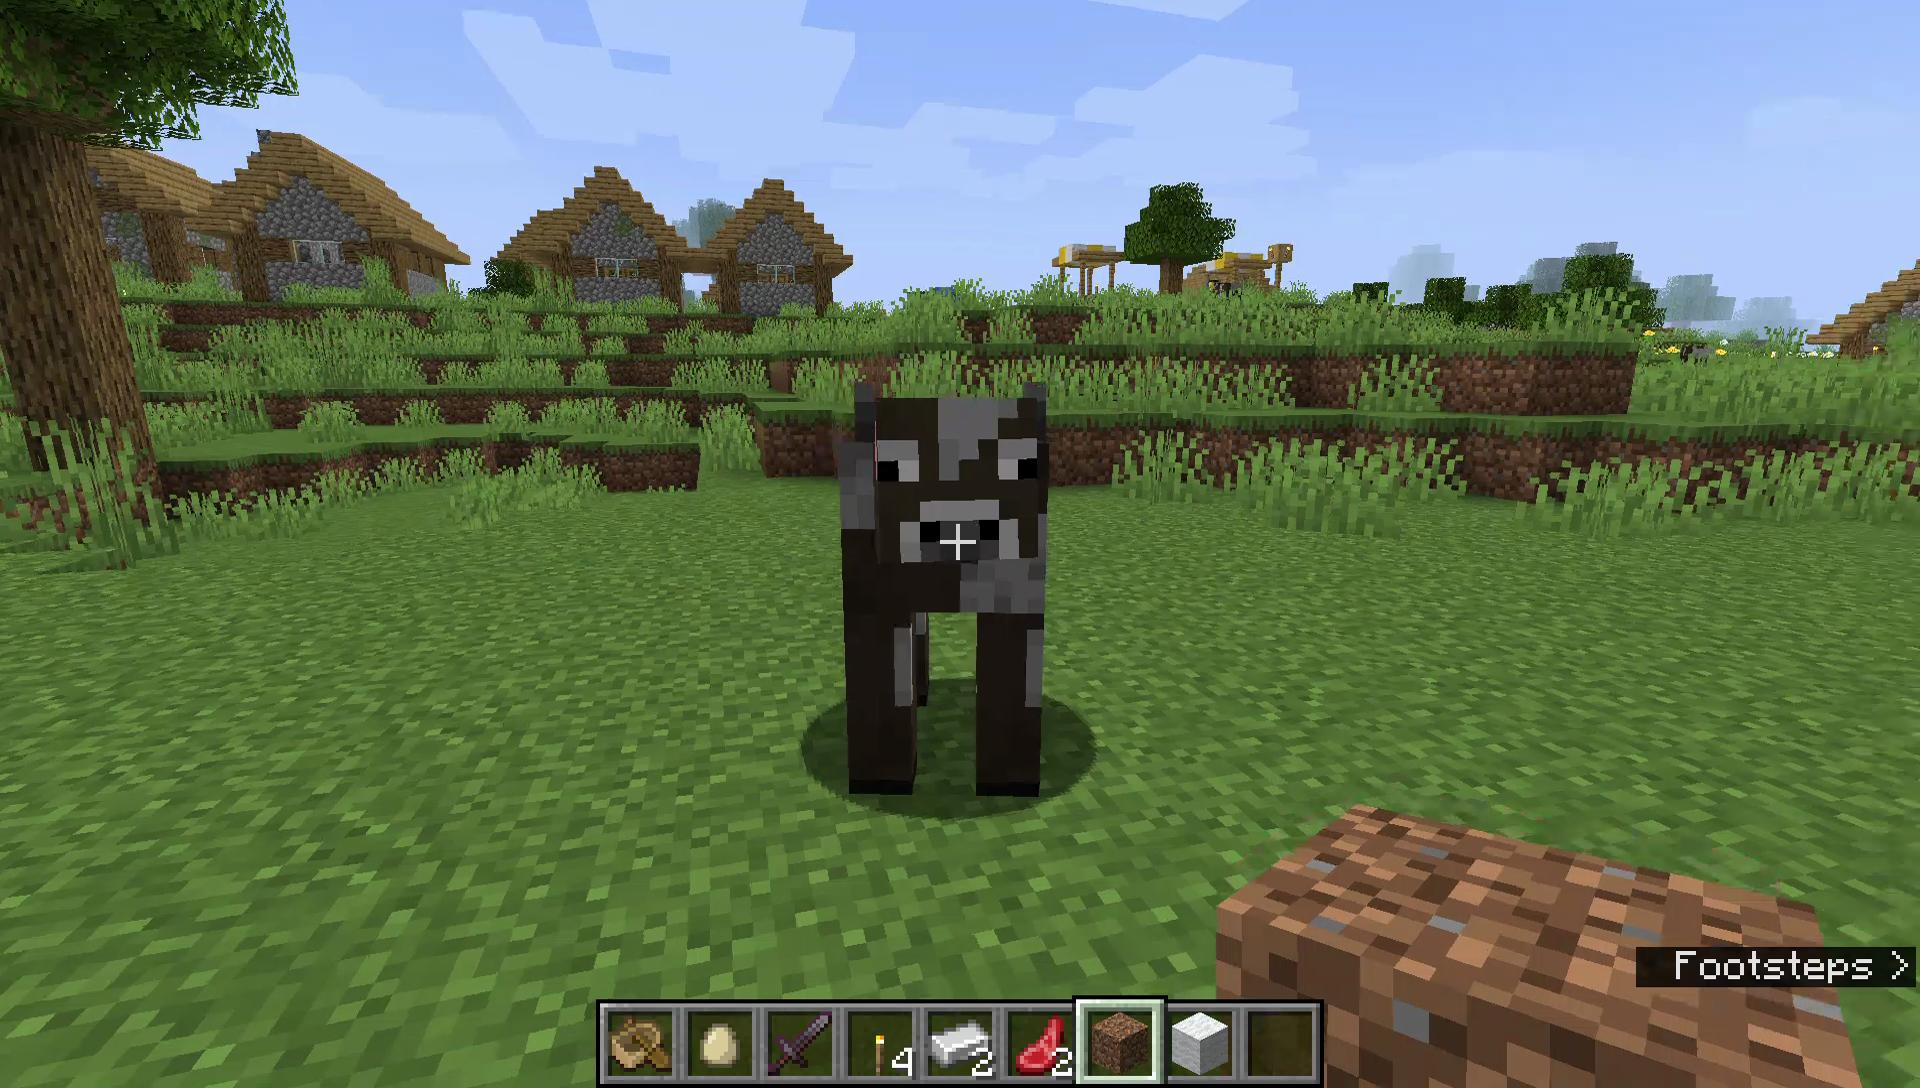cow: (829, 371, 1062, 804)
